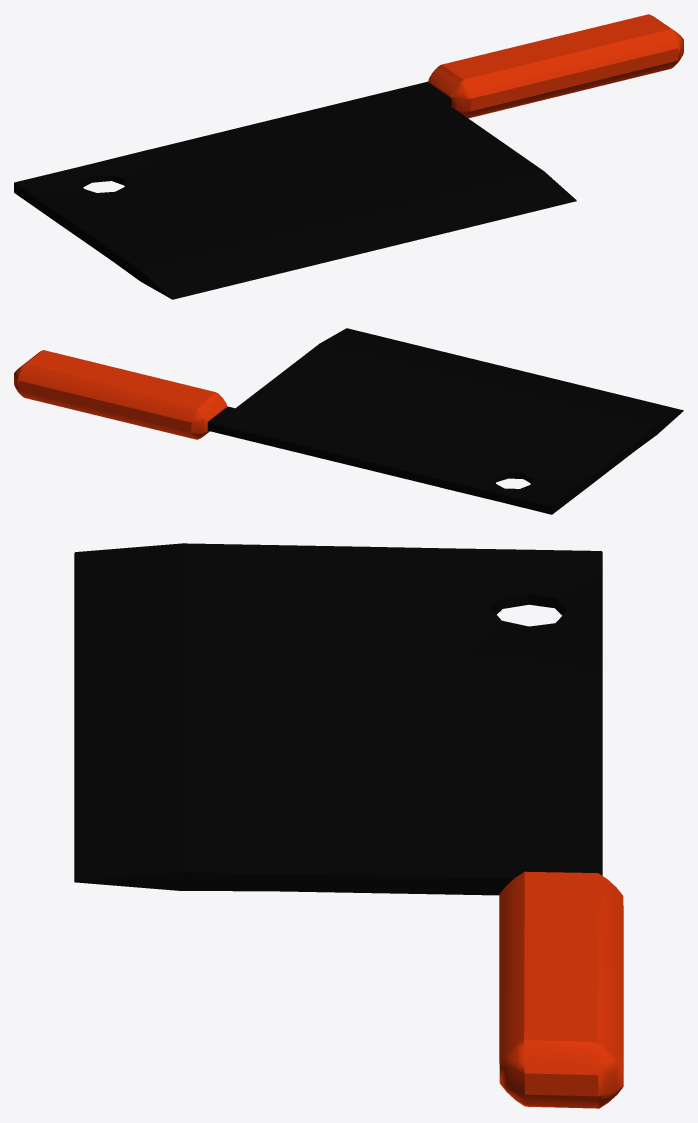
File: cleaver.fbx
3 renders of one model, top to bottom at view 1: azimuth 30°, elevation 25°; view 2: azimuth 150°, elevation 25°; view 3: azimuth 270°, elevation 25°, orthographic. The views are drawn at different scales.
Visible parts, largest first — view 1: Kitchen_Tool_Clever:Clever; view 2: Kitchen_Tool_Clever:Clever; view 3: Kitchen_Tool_Clever:Clever.
Boxes of the visible parts, bbox=[...] form: Kitchen_Tool_Clever:Clever: bbox=[14, 14, 683, 299]; Kitchen_Tool_Clever:Clever: bbox=[14, 328, 683, 514]; Kitchen_Tool_Clever:Clever: bbox=[74, 543, 623, 1108].
Bounding box in the file's own units: 12.88 × 0.7818 × 5.69.
